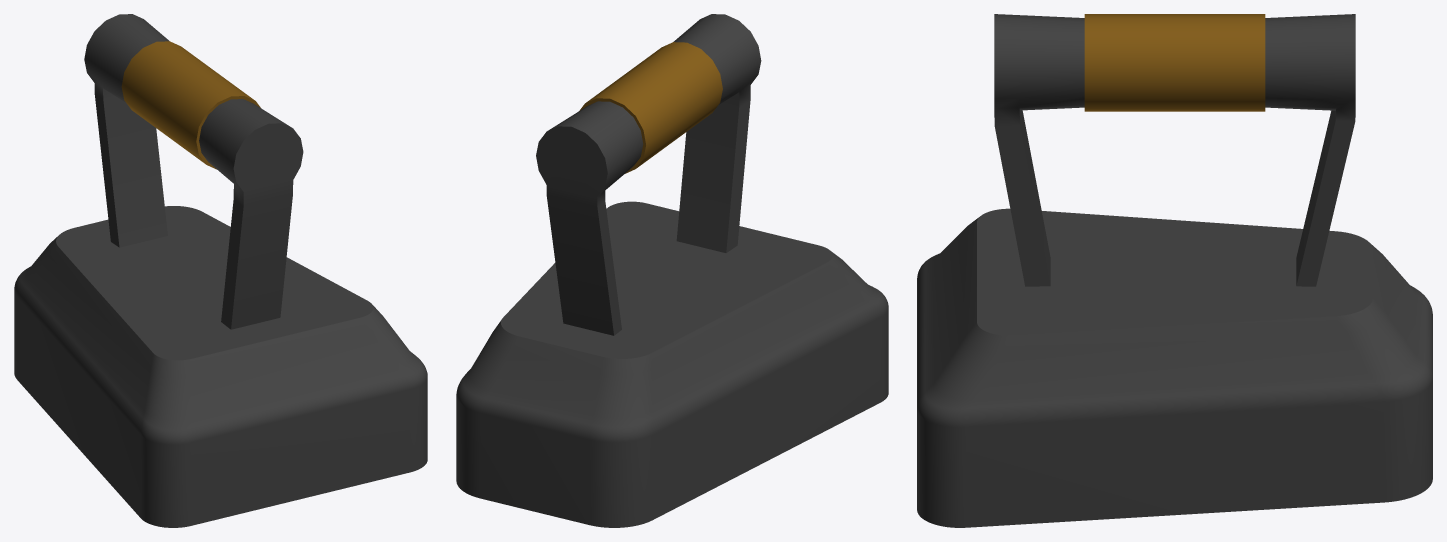
The model's file is Iron.fbx.
3 views of the same model, side by side, from view 1: azimuth 30°, elevation 25°; view 2: azimuth 150°, elevation 25°; view 3: azimuth 270°, elevation 25° (orthographic). The views are drawn at different scales.
Parts seen in each view (by area): view 1: Cube, Cylinder; view 2: Cube, Cylinder; view 3: Cube, Cylinder.
Boxes of the visible parts, x1,y1,x2,y2 form: Cube: [14, 206, 427, 527]; Cylinder: [84, 14, 303, 329]; Cube: [456, 201, 888, 527]; Cylinder: [536, 14, 761, 335]; Cube: [917, 208, 1432, 527]; Cylinder: [994, 14, 1355, 286].
Bounding box in the file's own units: 152 × 182 × 200.
